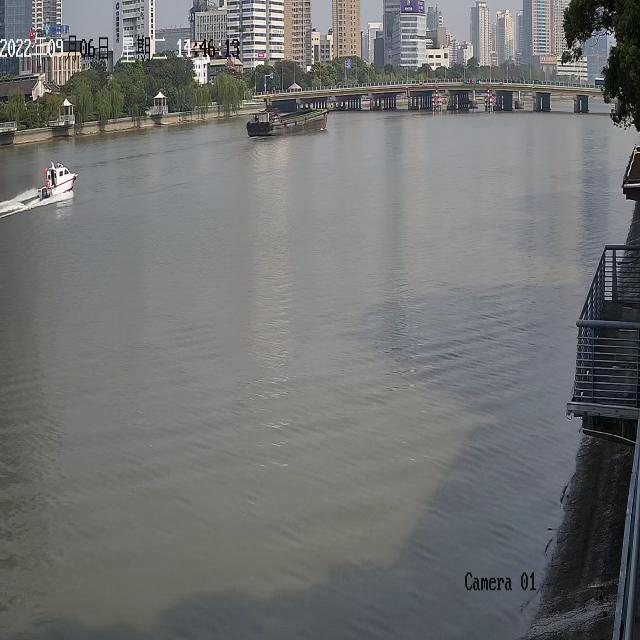ship: (245, 107, 328, 135), (37, 158, 78, 198), (604, 96, 614, 102)
